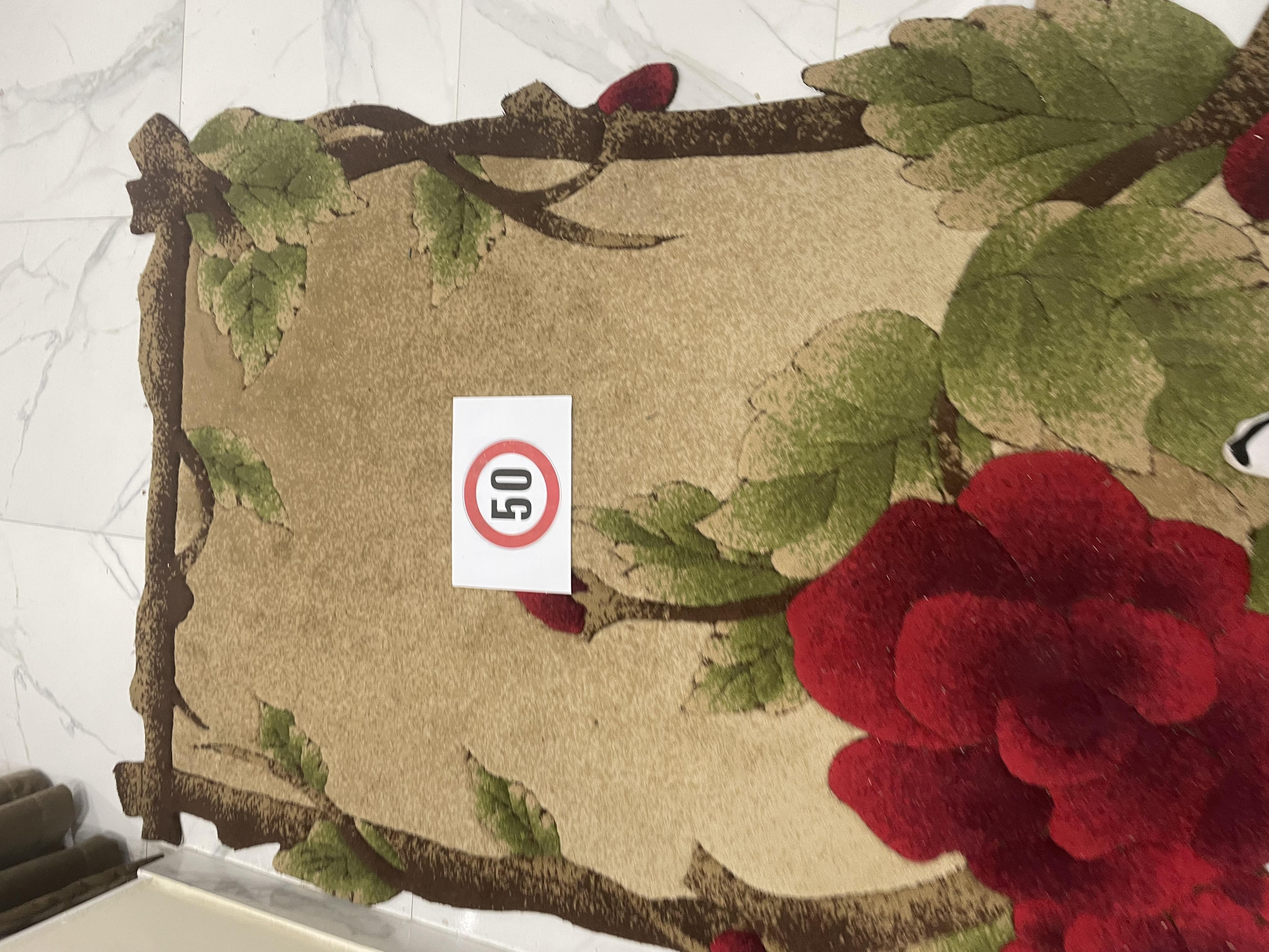50-Speed: (534, 345, 685, 421)
